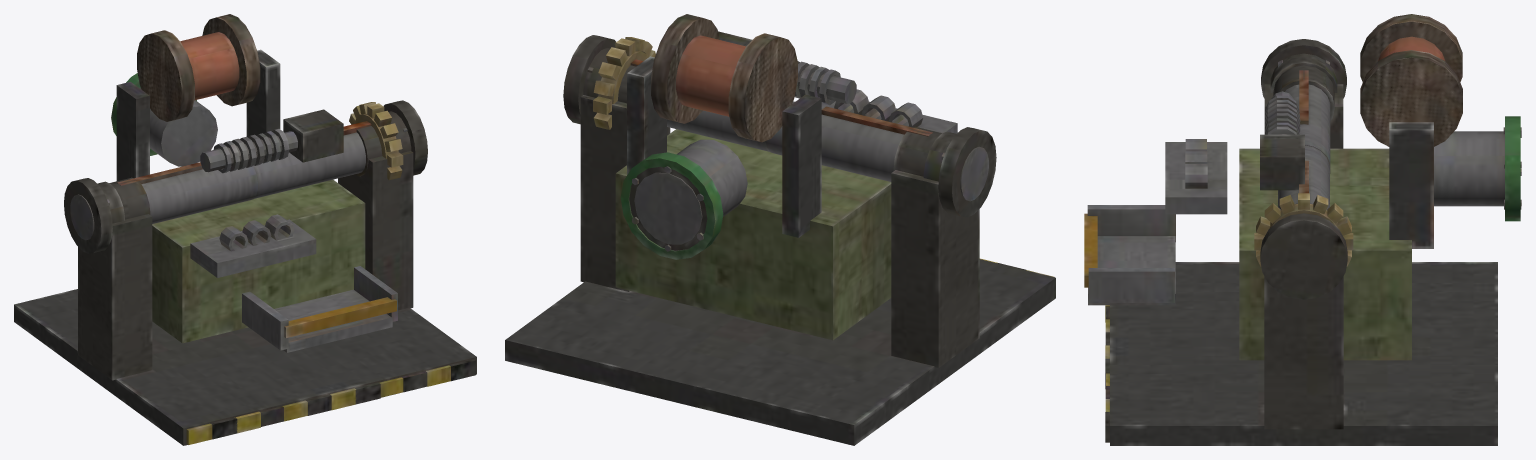
Rendered from feSpringCoiler.glb.
3 renders of one model, left to right at view 1: azimuth 30°, elevation 25°; view 2: azimuth 150°, elevation 25°; view 3: azimuth 270°, elevation 25°, orthographic. The views are drawn at different scales.
Visible parts, largest first — view 1: feSpringCoiler_Base, FeSpin_DriveShaft, FeSpin_x0.5_Spool, FeSpin_x3_Mandrel; view 2: feSpringCoiler_Base, FeSpin_DriveShaft, FeSpin_x0.5_Spool, FeSpin_x3_Mandrel; view 3: feSpringCoiler_Base, FeSpin_DriveShaft, FeSpin_x0.5_Spool, FeSpin_x3_Mandrel.
Part boxes in pixels (x1=…): feSpringCoiler_Base: x1=14, y1=49, x2=476, y2=445; FeSpin_DriveShaft: x1=64, y1=100, x2=427, y2=253; FeSpin_x0.5_Spool: x1=137, y1=14, x2=260, y2=121; FeSpin_x3_Mandrel: x1=200, y1=129, x2=297, y2=173; feSpringCoiler_Base: x1=505, y1=31, x2=1055, y2=445; FeSpin_DriveShaft: x1=563, y1=35, x2=996, y2=217; FeSpin_x0.5_Spool: x1=651, y1=14, x2=797, y2=142; FeSpin_x3_Mandrel: x1=794, y1=61, x2=856, y2=105; feSpringCoiler_Base: x1=1084, y1=65, x2=1521, y2=445; FeSpin_DriveShaft: x1=1254, y1=39, x2=1353, y2=299; FeSpin_x0.5_Spool: x1=1360, y1=14, x2=1462, y2=146; FeSpin_x3_Mandrel: x1=1264, y1=91, x2=1300, y2=134.
Bounding box in the file's own units: 1 × 0.8418 × 1.02.
Materials: 1 (1 with a texture image).
